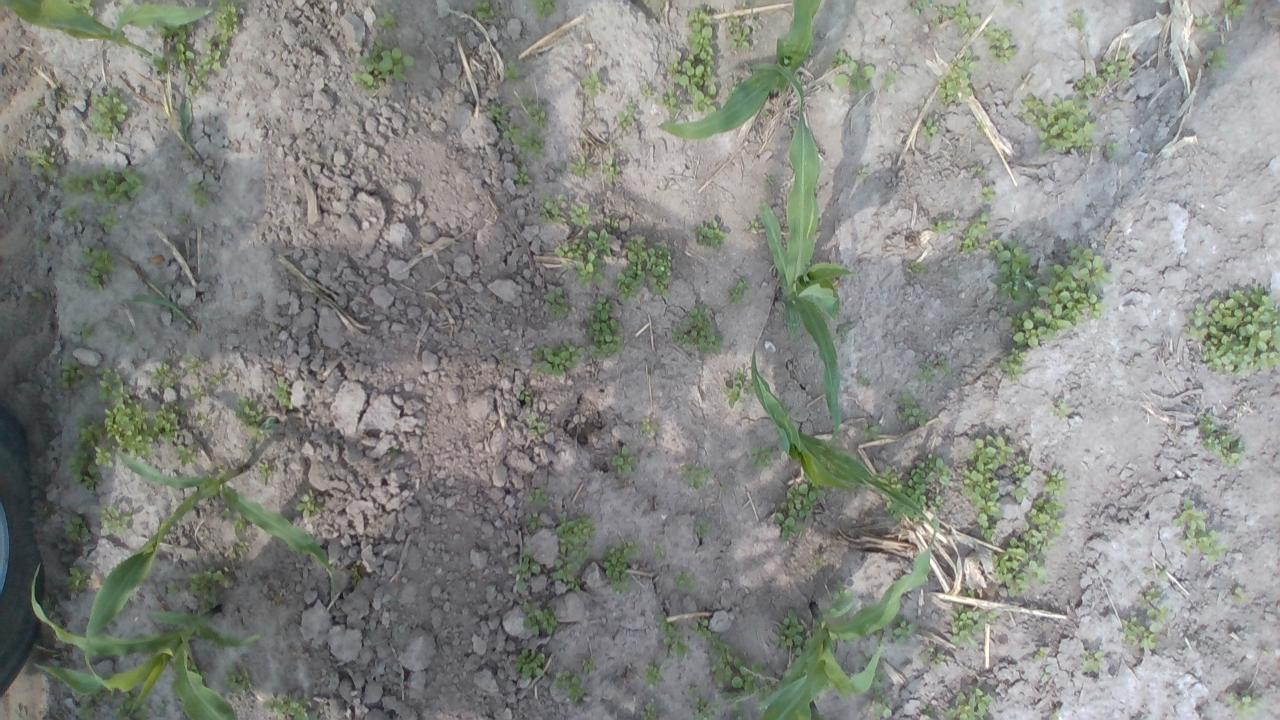Maize: (84, 452, 330, 690), (749, 61, 851, 446), (754, 514, 939, 720), (29, 562, 258, 720), (746, 346, 940, 532), (661, 0, 822, 138), (0, 0, 213, 75)
Weeds: (1004, 242, 1114, 348), (1180, 283, 1280, 374), (666, 6, 716, 114), (706, 633, 780, 703), (1016, 92, 1097, 154), (960, 434, 1016, 518), (612, 236, 674, 302), (1172, 496, 1228, 564), (64, 418, 114, 494), (554, 228, 610, 286), (350, 40, 414, 90), (104, 399, 154, 462), (872, 466, 927, 522), (1196, 410, 1248, 468), (986, 239, 1034, 301), (669, 304, 724, 355), (1020, 497, 1065, 556), (992, 536, 1032, 599), (92, 162, 147, 206), (587, 296, 625, 359), (550, 514, 598, 562), (949, 604, 1000, 649), (938, 49, 978, 106), (603, 538, 643, 594), (88, 89, 129, 141), (532, 339, 586, 377), (778, 478, 826, 520), (932, 0, 982, 40), (187, 566, 233, 609), (233, 395, 276, 440), (80, 246, 116, 292), (944, 686, 992, 720), (772, 608, 805, 657), (214, 0, 251, 43), (656, 614, 690, 659), (503, 123, 545, 159), (983, 22, 1019, 64), (508, 546, 540, 592), (263, 694, 317, 720), (834, 61, 876, 92), (958, 212, 989, 254), (521, 601, 558, 636), (1226, 689, 1266, 720), (916, 451, 952, 484), (94, 366, 128, 400), (100, 504, 134, 538), (112, 688, 148, 720), (1120, 616, 1156, 648), (23, 146, 58, 178), (150, 401, 176, 443), (552, 670, 584, 704), (518, 93, 548, 129), (512, 648, 546, 679), (678, 461, 712, 492), (897, 392, 927, 427), (721, 368, 745, 411), (1098, 48, 1130, 80), (56, 359, 90, 389), (200, 36, 228, 72), (694, 220, 727, 250), (724, 12, 750, 50), (999, 348, 1028, 380), (150, 362, 181, 391), (222, 663, 254, 691), (185, 176, 212, 209), (916, 359, 950, 385), (538, 194, 566, 224), (153, 21, 195, 41), (654, 88, 682, 118), (182, 66, 208, 98), (295, 490, 323, 519), (863, 693, 893, 720), (774, 513, 804, 540), (580, 70, 606, 100), (61, 172, 92, 197), (167, 41, 194, 69), (612, 445, 638, 474), (748, 444, 774, 473), (546, 286, 568, 320), (1042, 468, 1068, 496), (691, 696, 720, 720), (893, 615, 917, 644), (272, 379, 294, 410), (64, 566, 90, 592), (826, 578, 854, 602), (728, 278, 751, 307), (1146, 606, 1170, 633), (174, 443, 199, 468), (96, 208, 120, 234), (552, 558, 578, 582), (77, 692, 99, 720), (568, 154, 593, 178), (616, 99, 636, 129), (1074, 74, 1104, 94), (1204, 47, 1226, 74), (65, 516, 89, 540), (1081, 649, 1104, 674), (570, 202, 592, 228), (598, 156, 620, 182), (1049, 398, 1075, 420), (525, 484, 548, 508), (644, 660, 665, 686), (474, 0, 498, 22), (530, 0, 556, 20), (920, 116, 940, 142), (978, 513, 997, 540), (1222, 0, 1250, 18), (59, 202, 83, 222), (920, 648, 944, 668), (1030, 556, 1046, 586), (513, 164, 532, 189), (672, 570, 695, 590), (1012, 456, 1032, 479), (66, 0, 98, 14), (724, 691, 745, 712), (501, 61, 520, 84), (1009, 481, 1029, 502), (1230, 584, 1252, 603), (486, 104, 510, 121), (908, 0, 932, 17), (870, 668, 887, 692), (691, 619, 712, 638), (835, 322, 854, 343), (928, 219, 958, 232), (1192, 16, 1216, 32), (862, 422, 882, 441), (528, 414, 546, 435), (1141, 587, 1161, 605), (183, 356, 204, 373), (882, 68, 898, 90), (639, 702, 658, 720), (875, 628, 893, 647), (232, 514, 248, 535), (79, 324, 97, 342), (524, 512, 542, 530), (256, 460, 273, 479), (378, 12, 398, 28), (830, 52, 851, 67), (1069, 12, 1085, 31), (694, 520, 710, 539), (909, 261, 929, 276), (350, 560, 363, 583), (642, 417, 659, 434), (582, 658, 600, 674), (980, 184, 996, 202), (926, 495, 944, 511), (518, 384, 532, 404), (858, 650, 872, 669), (190, 383, 204, 401), (744, 219, 760, 234), (212, 460, 228, 474), (165, 581, 179, 596), (234, 540, 249, 554), (207, 371, 226, 382), (1042, 665, 1054, 682), (652, 544, 666, 558), (1154, 566, 1169, 579), (568, 580, 584, 592), (970, 165, 989, 175), (175, 211, 189, 224), (856, 166, 869, 180), (812, 554, 825, 568), (1104, 140, 1119, 152), (58, 90, 72, 102), (1002, 0, 1023, 8), (744, 380, 756, 394), (687, 684, 701, 696), (1034, 647, 1048, 659), (387, 443, 401, 455), (218, 507, 232, 518), (975, 118, 986, 132), (604, 218, 619, 228), (960, 588, 975, 598), (177, 404, 190, 415), (31, 290, 45, 300), (122, 334, 136, 344), (642, 84, 652, 98), (762, 176, 776, 186), (856, 376, 870, 386), (1260, 648, 1274, 658), (30, 98, 41, 110), (186, 659, 197, 671), (38, 238, 50, 248), (730, 80, 740, 92), (786, 122, 798, 132), (116, 0, 130, 8), (924, 706, 935, 716), (760, 110, 771, 119), (200, 670, 209, 680), (1048, 713, 1060, 720), (736, 715, 746, 720), (642, 0, 651, 4)
